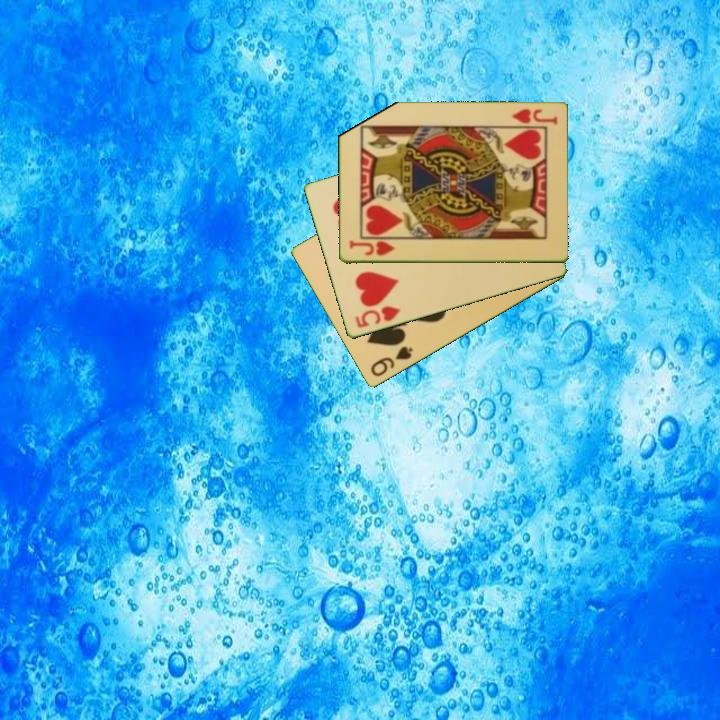5h: (351, 303, 403, 331)
9s: (367, 343, 415, 380)
Jh: (346, 237, 397, 259), (508, 106, 560, 127)
